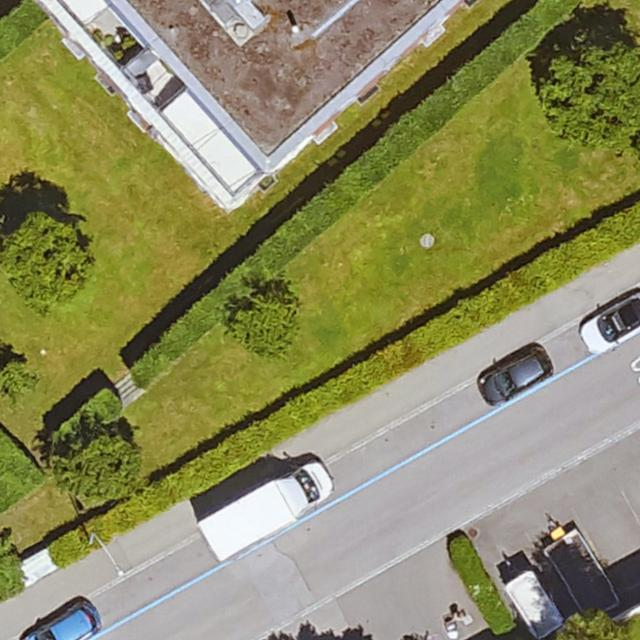tree: (540, 43, 640, 147), (1, 212, 91, 309), (52, 410, 143, 498), (226, 291, 299, 358), (542, 608, 634, 640)
